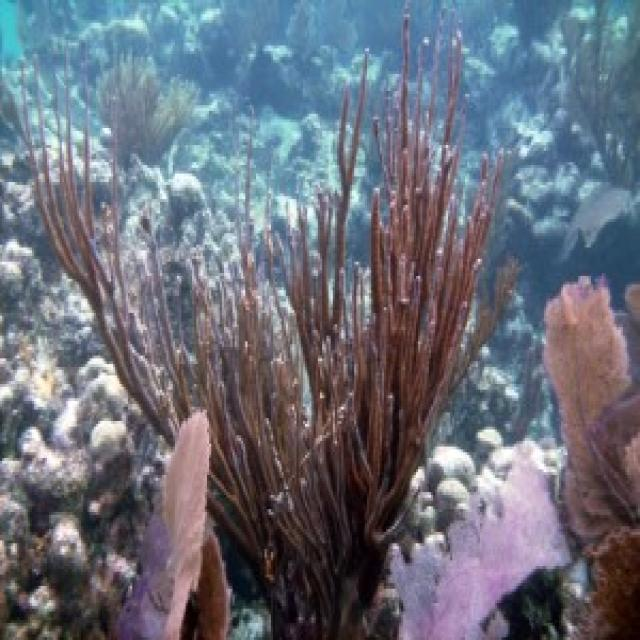Coral: (18, 0, 526, 608), (389, 437, 573, 640), (540, 273, 640, 544), (119, 408, 231, 640)
